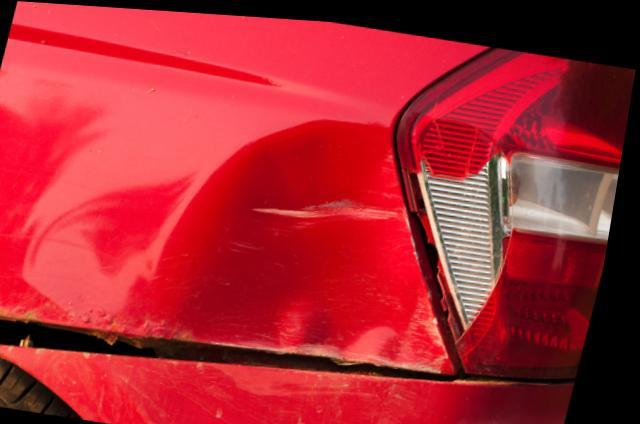dent: (171, 117, 463, 366)
lamp broken: (391, 40, 637, 375)
